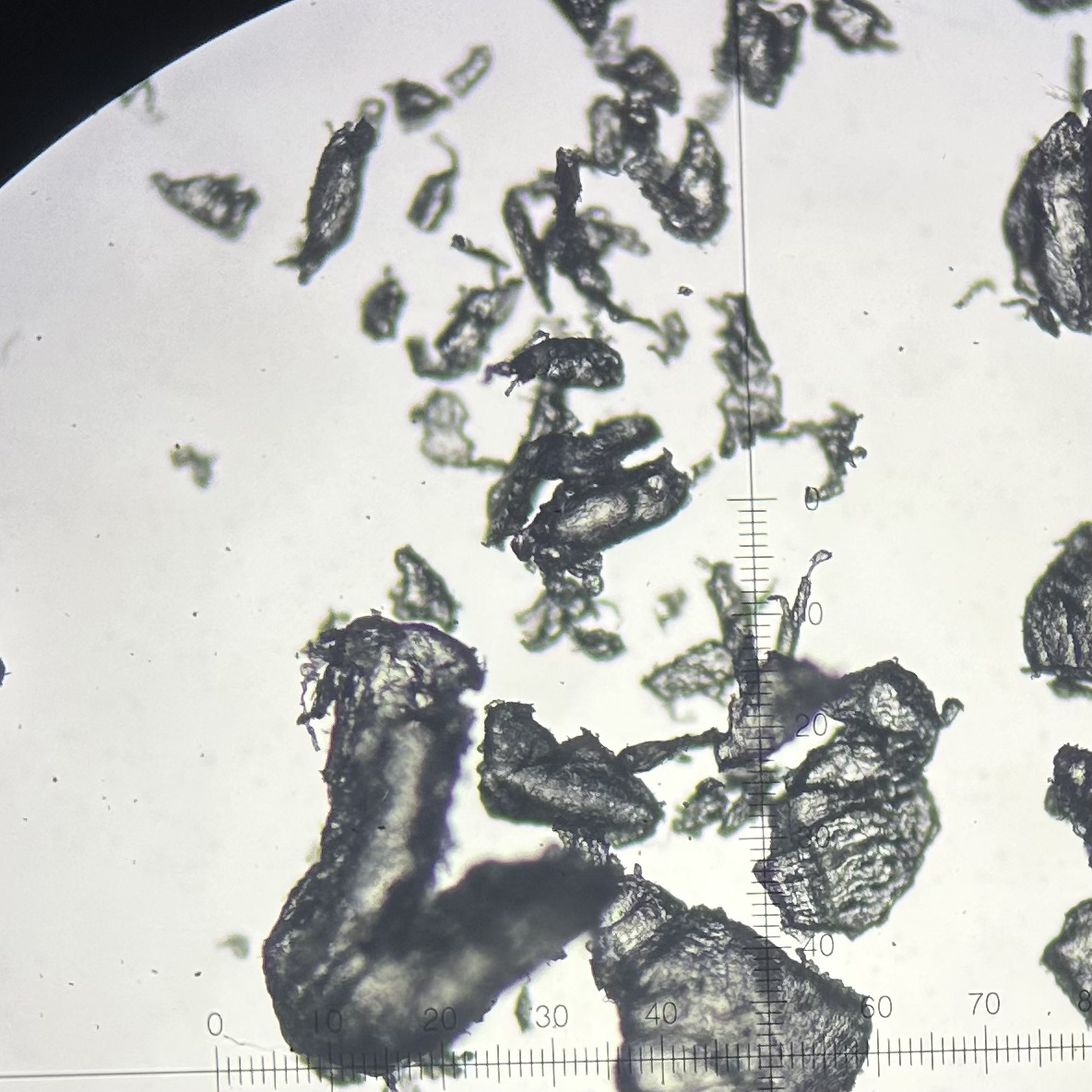microplastic: (255, 607, 631, 1092), (745, 654, 969, 944), (548, 142, 694, 368), (472, 696, 669, 850), (508, 449, 695, 582), (996, 85, 1092, 341), (269, 99, 387, 291), (705, 647, 856, 777), (477, 383, 572, 552), (703, 290, 789, 461), (1016, 519, 1092, 707), (639, 114, 733, 255), (403, 275, 525, 381), (766, 404, 878, 512), (710, 1, 812, 113), (517, 408, 667, 482), (147, 167, 268, 244), (501, 168, 563, 317), (406, 385, 510, 472), (478, 336, 631, 394), (1036, 893, 1092, 1043), (637, 639, 742, 718), (387, 541, 466, 641), (516, 574, 607, 654), (694, 548, 758, 658), (591, 46, 684, 121), (1040, 739, 1092, 872), (614, 721, 731, 778), (403, 132, 462, 235), (809, 1, 905, 62), (711, 763, 785, 841), (355, 264, 411, 347), (379, 76, 456, 135), (541, 1, 630, 52), (669, 774, 730, 847), (580, 202, 654, 258), (113, 76, 170, 128), (994, 298, 1063, 339), (444, 42, 493, 99), (448, 232, 515, 273), (168, 441, 222, 491), (649, 582, 694, 636), (566, 626, 628, 665), (564, 553, 612, 596), (1007, 1, 1092, 22), (955, 278, 999, 312), (510, 985, 537, 1038), (210, 932, 252, 963), (754, 575, 777, 611), (1, 656, 12, 686)
